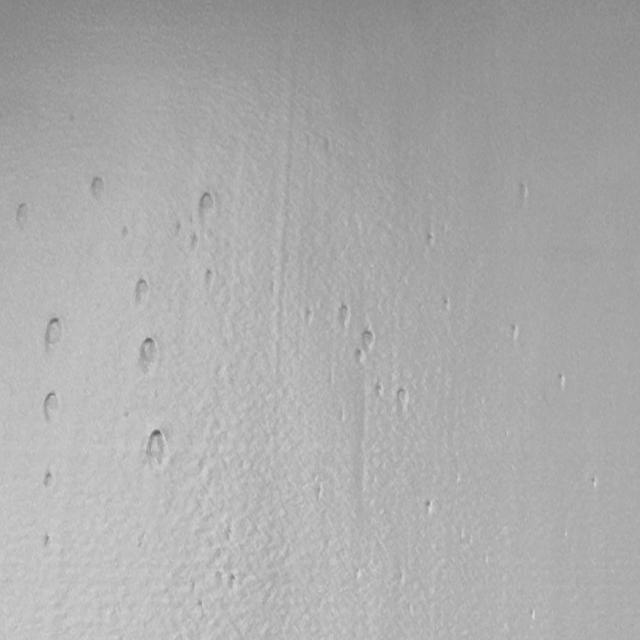pin holes: (144, 427, 174, 470), (137, 335, 163, 375), (40, 314, 66, 351), (42, 389, 66, 423), (133, 276, 152, 307), (87, 175, 107, 204), (197, 190, 217, 219), (512, 182, 534, 208), (12, 201, 32, 228), (361, 326, 380, 354), (392, 388, 410, 414), (336, 304, 353, 330), (39, 468, 57, 492), (352, 346, 370, 367), (422, 230, 437, 250), (203, 268, 216, 290), (554, 372, 568, 392), (440, 295, 454, 315), (422, 498, 435, 519), (508, 324, 522, 343), (42, 534, 56, 553), (119, 224, 132, 243), (227, 573, 239, 592), (188, 233, 200, 252), (588, 475, 600, 493), (373, 380, 385, 398), (526, 607, 538, 625), (303, 307, 315, 324), (195, 597, 207, 613), (172, 222, 183, 236)
